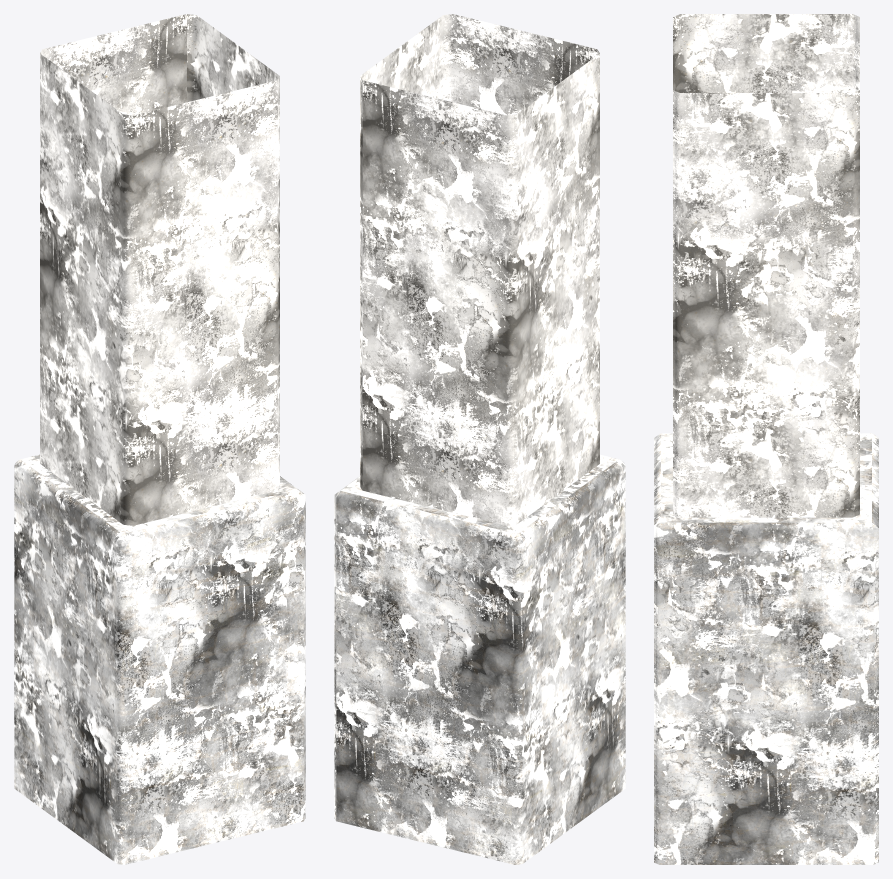
Rendered from SM_column_01.fbx.
3 views of the same model, side by side, from view 1: azimuth 30°, elevation 25°; view 2: azimuth 150°, elevation 25°; view 3: azimuth 270°, elevation 25° (orthographic). The views are drawn at different scales.
Parts seen in each view (by area): view 1: SM_column_01_LOD0; view 2: SM_column_01_LOD0; view 3: SM_column_01_LOD0.
Part boxes in pixels (left/top/right/bottom): SM_column_01_LOD0: left=14, top=14, right=305, bottom=864; SM_column_01_LOD0: left=334, top=14, right=625, bottom=864; SM_column_01_LOD0: left=654, top=14, right=878, bottom=864.
Bounding box in the file's own units: 120 × 120 × 450.
2 materials, 2 textured.
